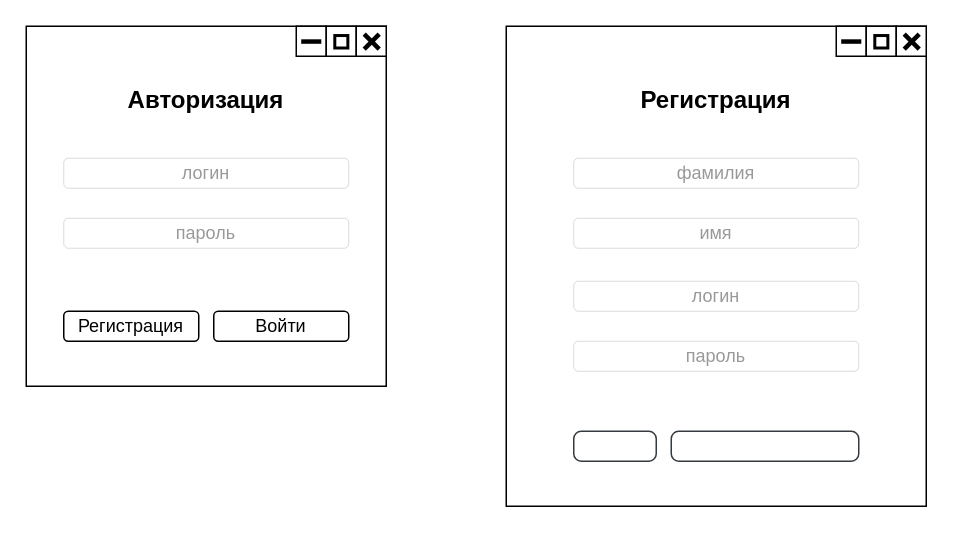
Image size: 953x533. Some labels were removed from this diagram. Here are the shapes that lost their labels. From the top down, the centre of each, then its label:
the point at 614,445: Назад
the point at 764,445: Зарегистрироваться
